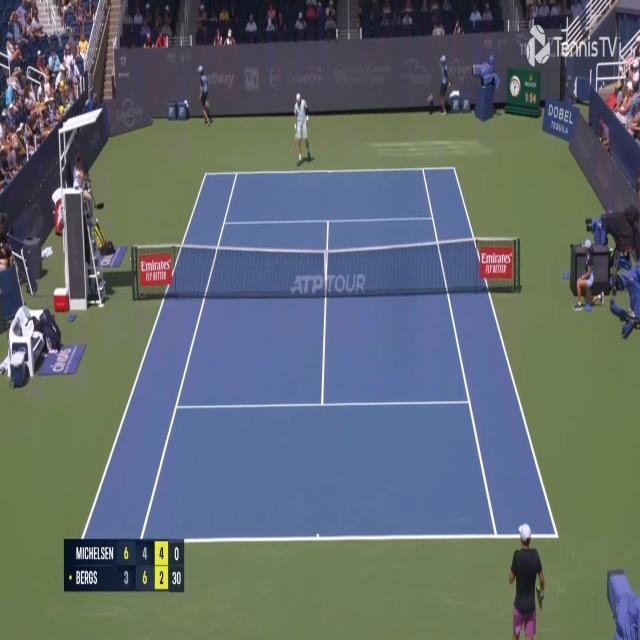tennis-player: (506, 520, 543, 640), (293, 90, 313, 166)
